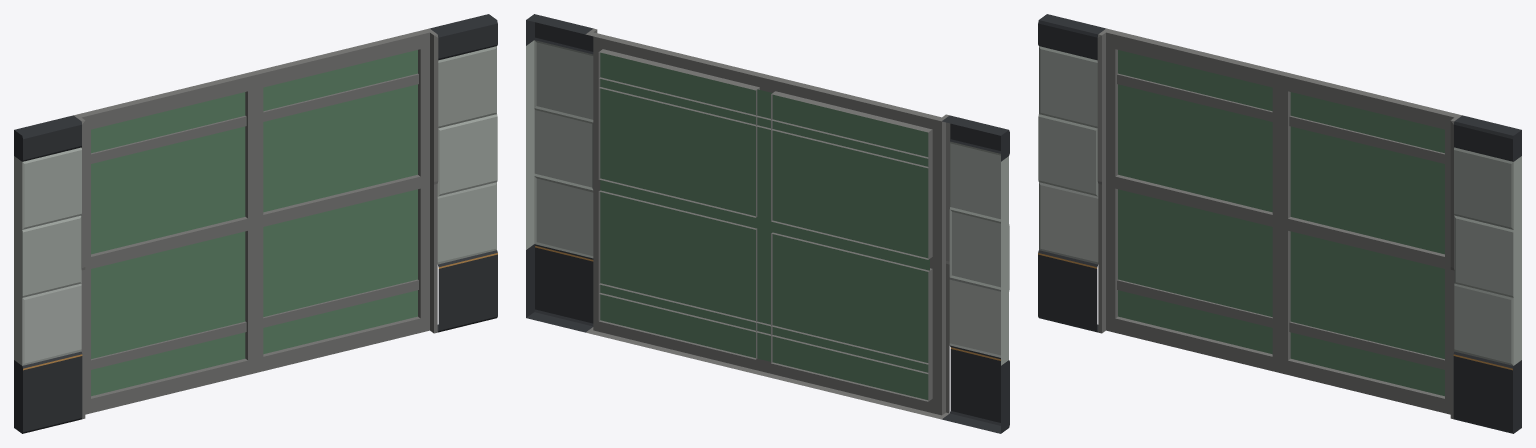
Rendered from Wall_Interior_Window_Ground_02.glb.
3 renders of one model, left to right at view 1: azimuth 30°, elevation 25°; view 2: azimuth 150°, elevation 25°; view 3: azimuth 330°, elevation 25°, orthographic.
Visible parts, largest first — view 1: SM_Env_Wall_Interior_Window_Ground_02, SM_Env_Wall_Interior_Window_Ground_Glass_02; view 2: SM_Env_Wall_Interior_Window_Ground_Glass_02, SM_Env_Wall_Interior_Window_Ground_02; view 3: SM_Env_Wall_Interior_Window_Ground_02, SM_Env_Wall_Interior_Window_Ground_Glass_02.
Part boxes in pixels (x1=…): SM_Env_Wall_Interior_Window_Ground_02: x1=14, y1=14, x2=497, y2=433; SM_Env_Wall_Interior_Window_Ground_Glass_02: x1=91, y1=50, x2=417, y2=396; SM_Env_Wall_Interior_Window_Ground_Glass_02: x1=600, y1=52, x2=929, y2=399; SM_Env_Wall_Interior_Window_Ground_02: x1=526, y1=14, x2=1009, y2=433; SM_Env_Wall_Interior_Window_Ground_02: x1=1038, y1=14, x2=1521, y2=433; SM_Env_Wall_Interior_Window_Ground_Glass_02: x1=1118, y1=50, x2=1444, y2=396.
Bounding box in the file's own units: 5 × 3 × 0.1636.
Materials: 1 (1 with a texture image).
